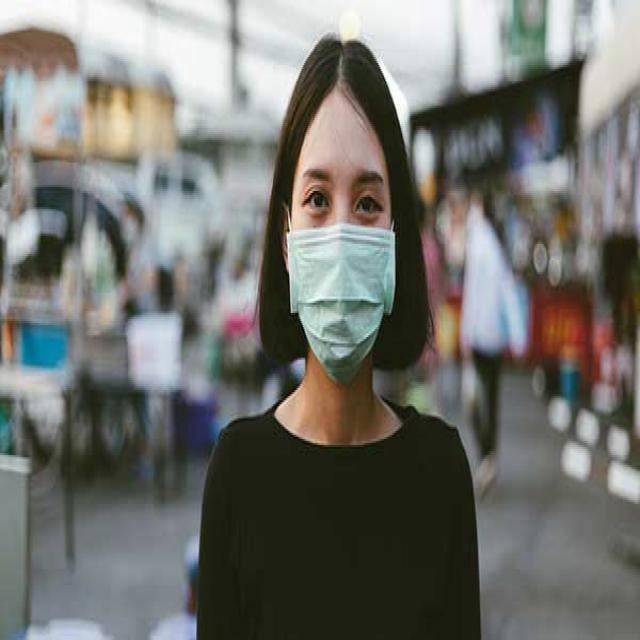adult: (196, 37, 480, 640)
